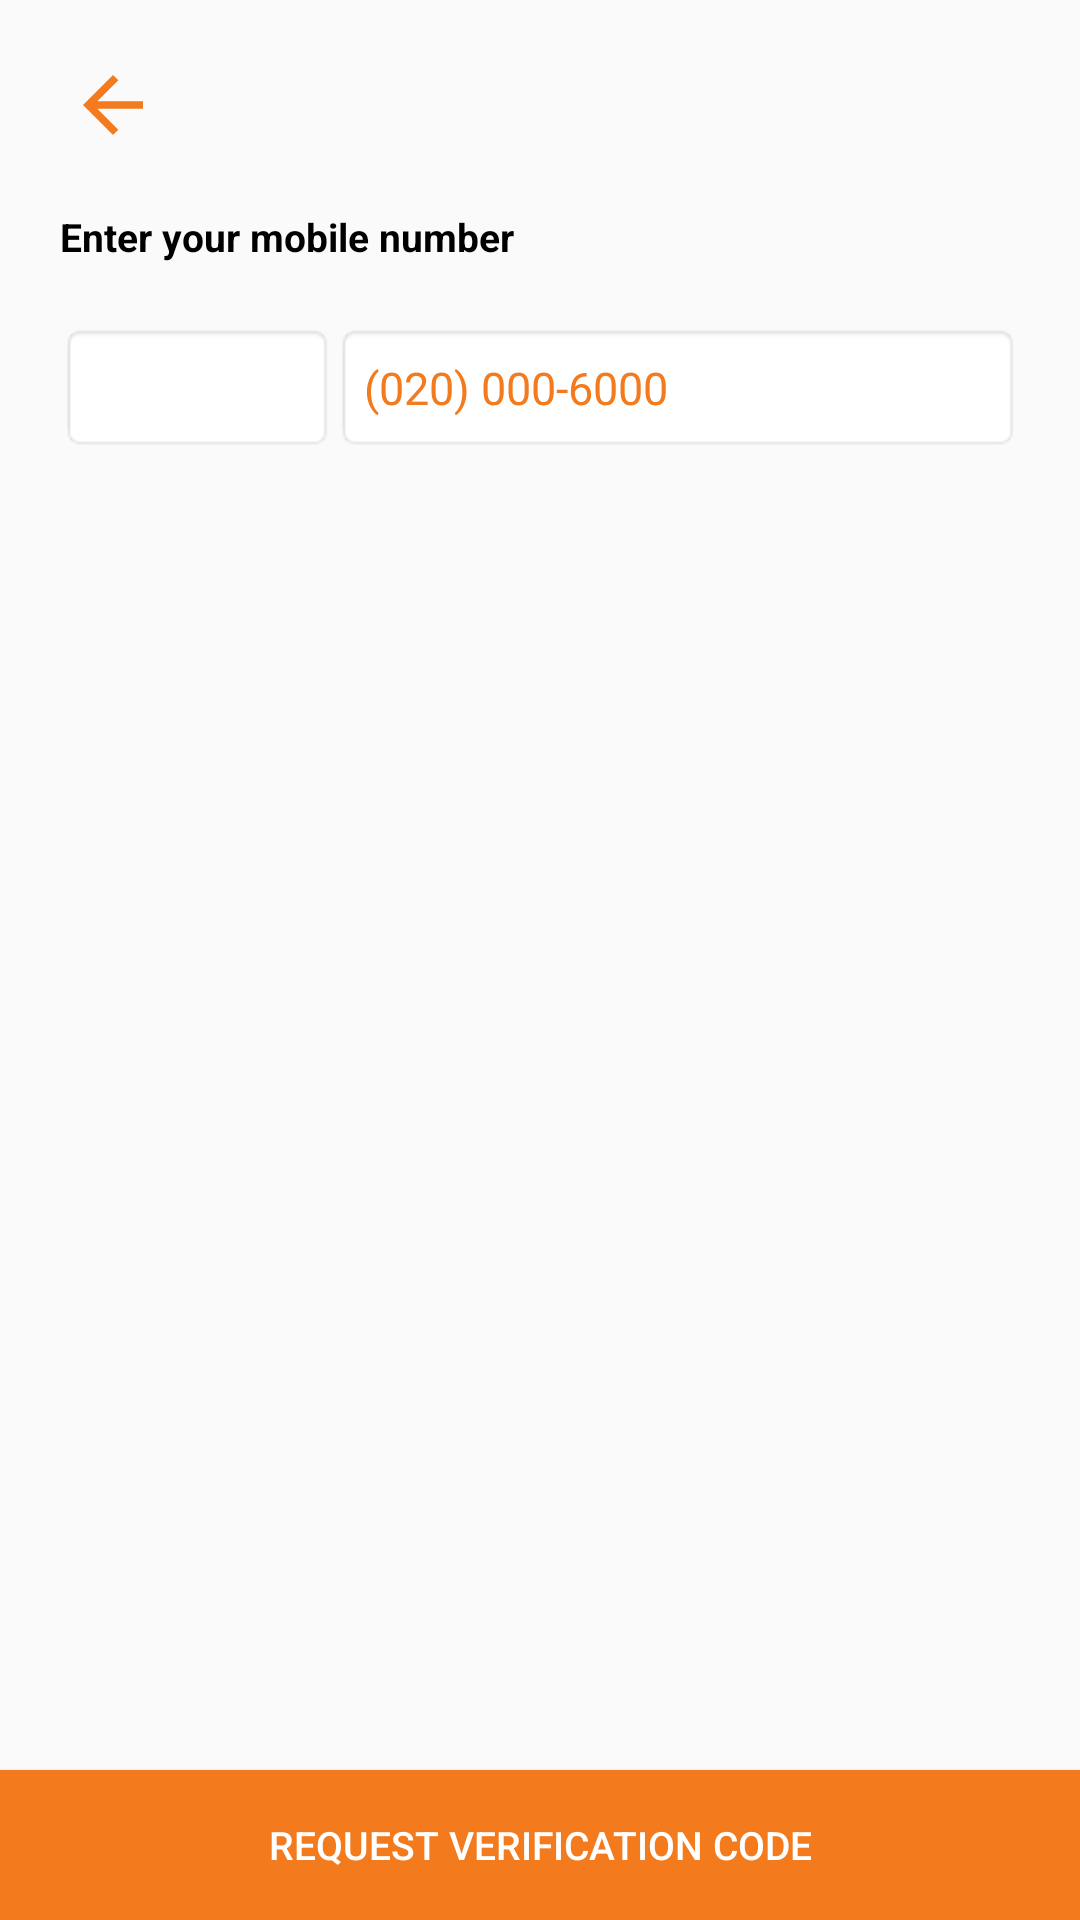

Named icons in this screenshot (1080x1920) and their bounding boxes, (x1, y1, x2, y2):
back: (83, 75, 143, 135)
